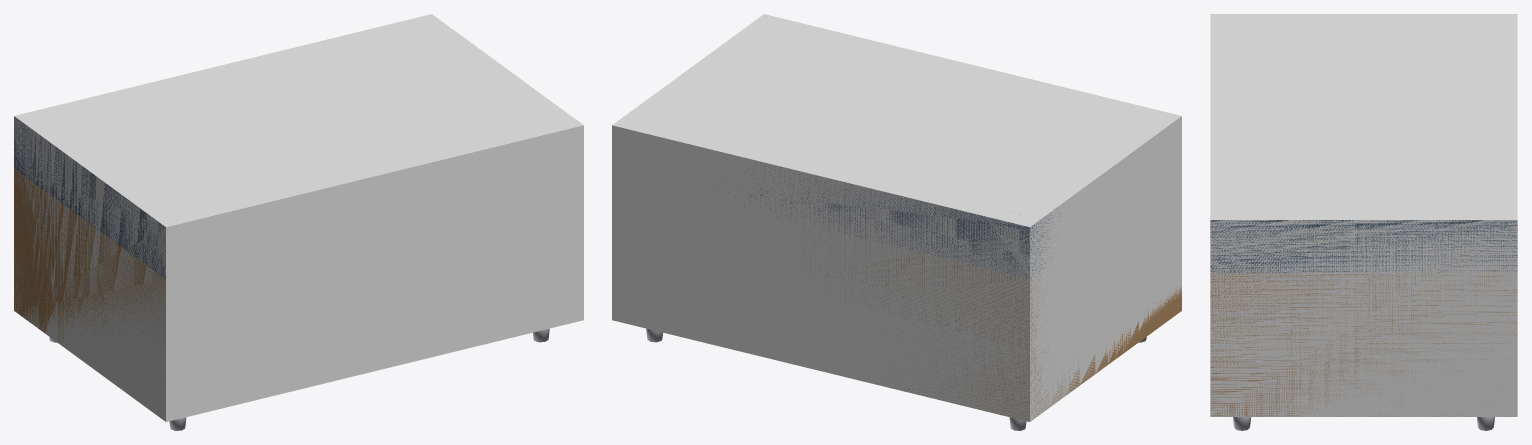
The model's file is Deco_Crate.gltf.
3 views of the same model, side by side, from view 1: azimuth 30°, elevation 25°; view 2: azimuth 150°, elevation 25°; view 3: azimuth 270°, elevation 25° (orthographic).
Parts seen in each view (by area): view 1: Deco_Crate_COL, Deco_Crate; view 2: Deco_Crate_COL, Deco_Crate; view 3: Deco_Crate_COL, Deco_Crate.
Boxes of the visible parts, x1,y1,x2,y2 form: Deco_Crate_COL: (14, 14, 583, 421); Deco_Crate: (14, 117, 549, 430); Deco_Crate_COL: (612, 14, 1181, 421); Deco_Crate: (646, 163, 1181, 430); Deco_Crate_COL: (1210, 14, 1517, 416); Deco_Crate: (1210, 220, 1517, 430).
Bounding box in the file's own units: 0.92 × 0.46 × 0.58.
